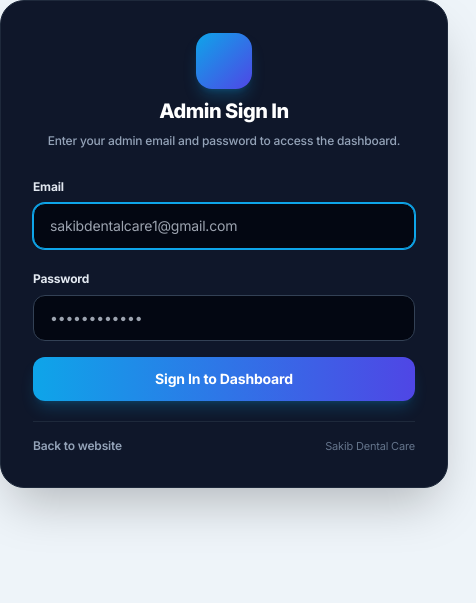
AdminAuthForm › displays network error alert when fetch fails
This screenshot has width=476, height=603.
Type "test@gmail.com" into the field labelled "Email".
click(224, 226); type("test@gmail.com")  # box [33,203,415,249]
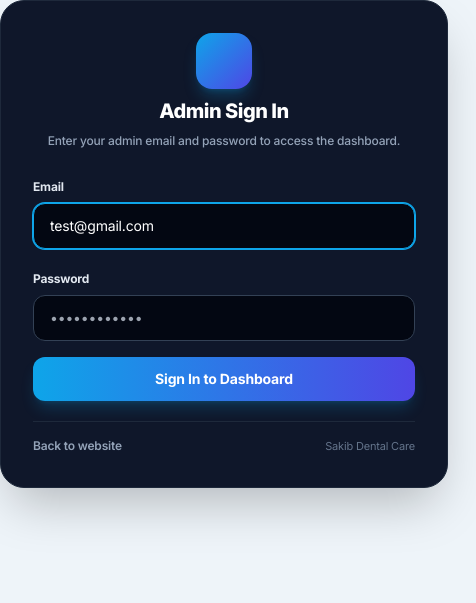
Type "Password123" into the password field labelled "Password".
click(224, 318); type("Password123")  # box [33,295,415,341]
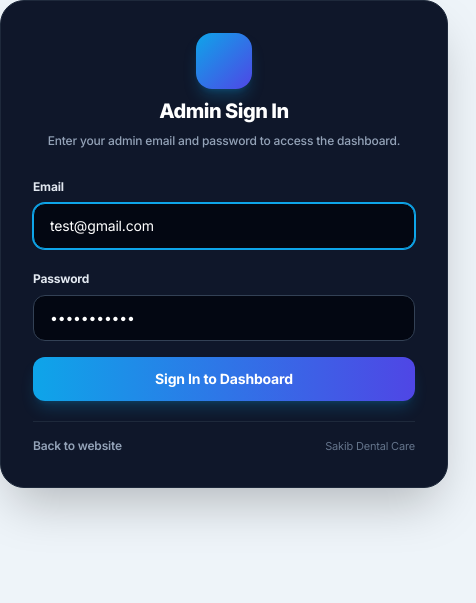
Click the button "Sign In to Dashboard".
click(224, 379)  # box [33,357,415,401]
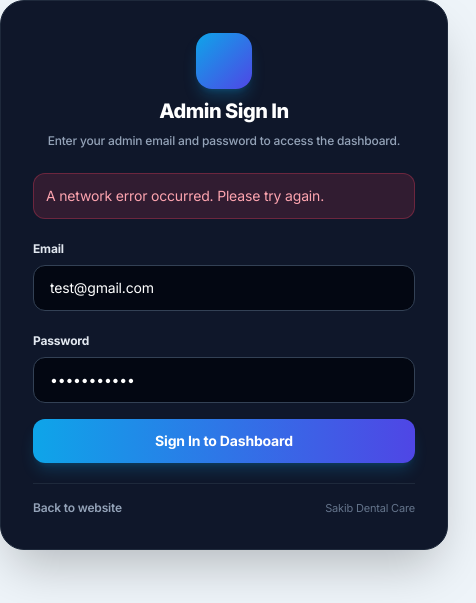
Check: the message reads "A network error occurred. Please try again.", box [46,187,324,204]
